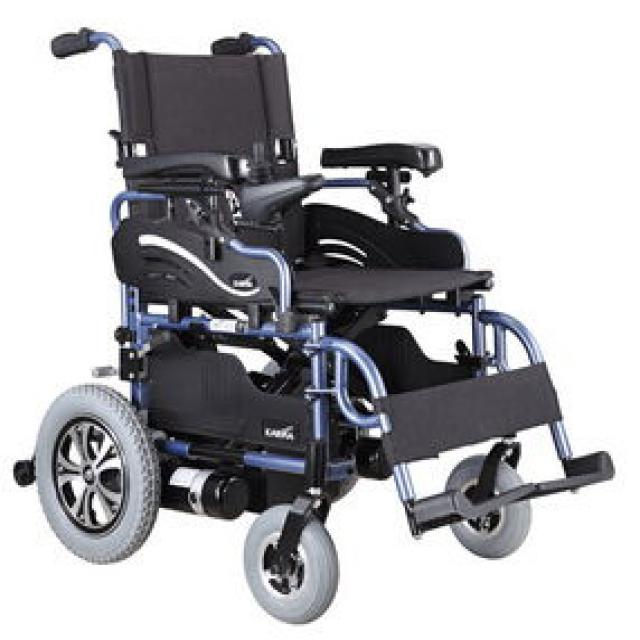wheelchairs: (19, 28, 611, 622)
